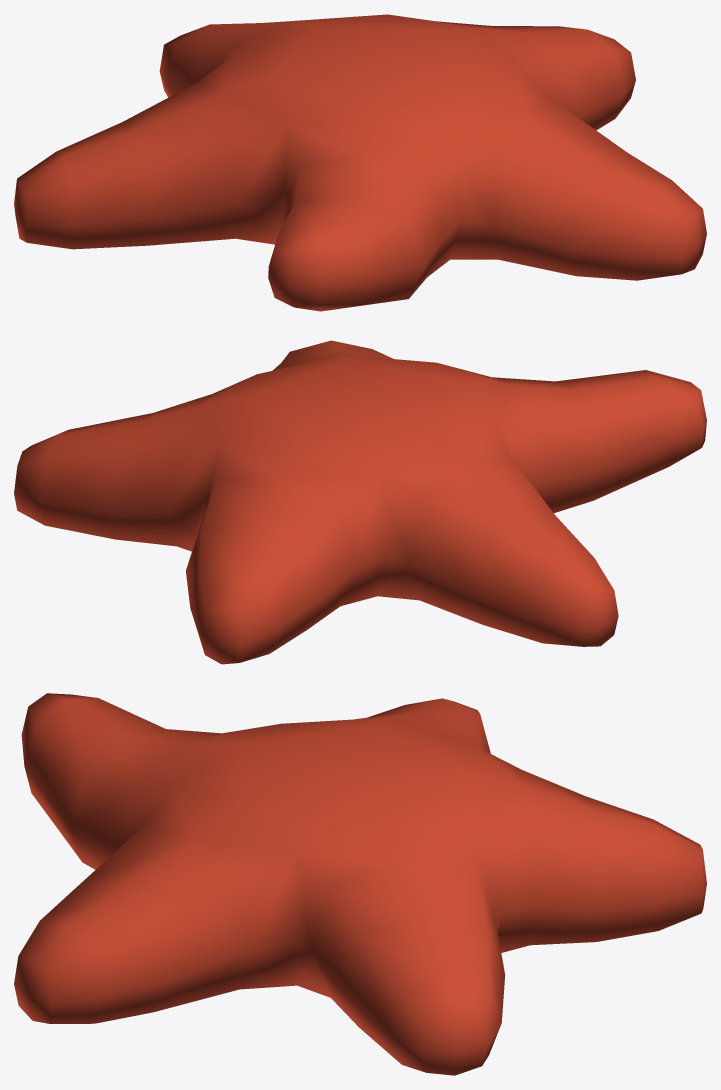
File: Seastar.fbx
The picture shows the model from 3 angles, top to bottom: view 1: azimuth 30°, elevation 25°; view 2: azimuth 150°, elevation 25°; view 3: azimuth 270°, elevation 25°; orthographic projection. The views are drawn at different scales.
Parts seen in each view (by area): view 1: Seastar; view 2: Seastar; view 3: Seastar.
Boxes of the visible parts, bbox=[...] form: Seastar: bbox=[14, 14, 706, 311]; Seastar: bbox=[14, 340, 706, 664]; Seastar: bbox=[14, 693, 706, 1075].
Size of the model in its own units: 108 by 27.09 by 98.53.
